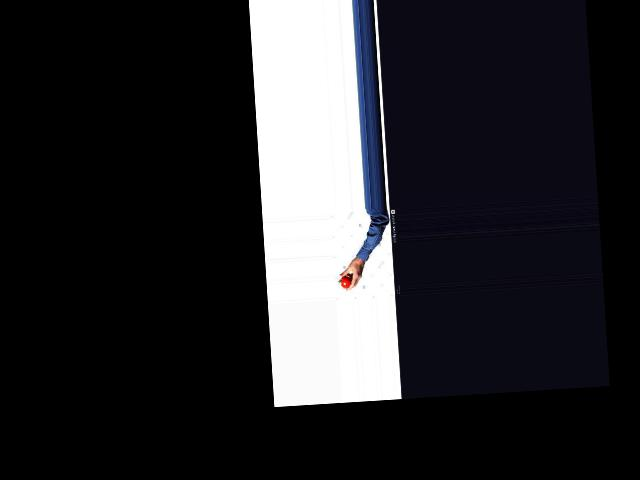tomato: (341, 276, 351, 288)
